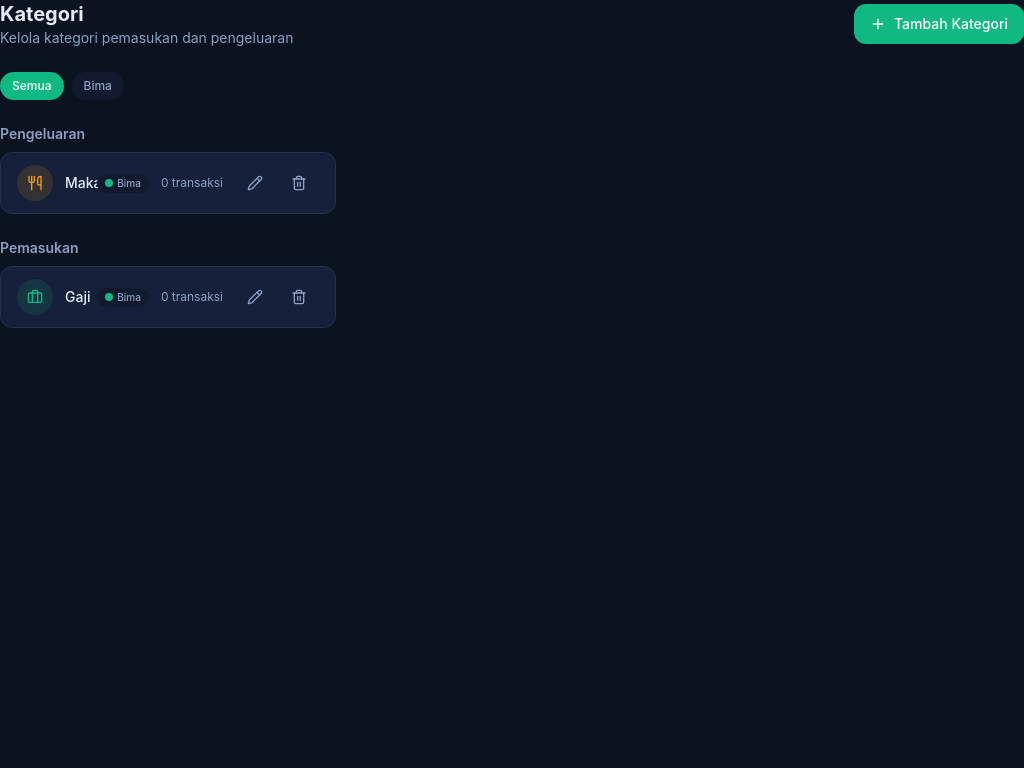
Test: CategoriesPage › opens the create form and creates a category
The image size is (1024, 768).
Expected: the text "Makanan" is shown, [65,173,85,193]
Click the button "Tambah Kategori". click: x=939, y=24
box: [854,4,1023,44]
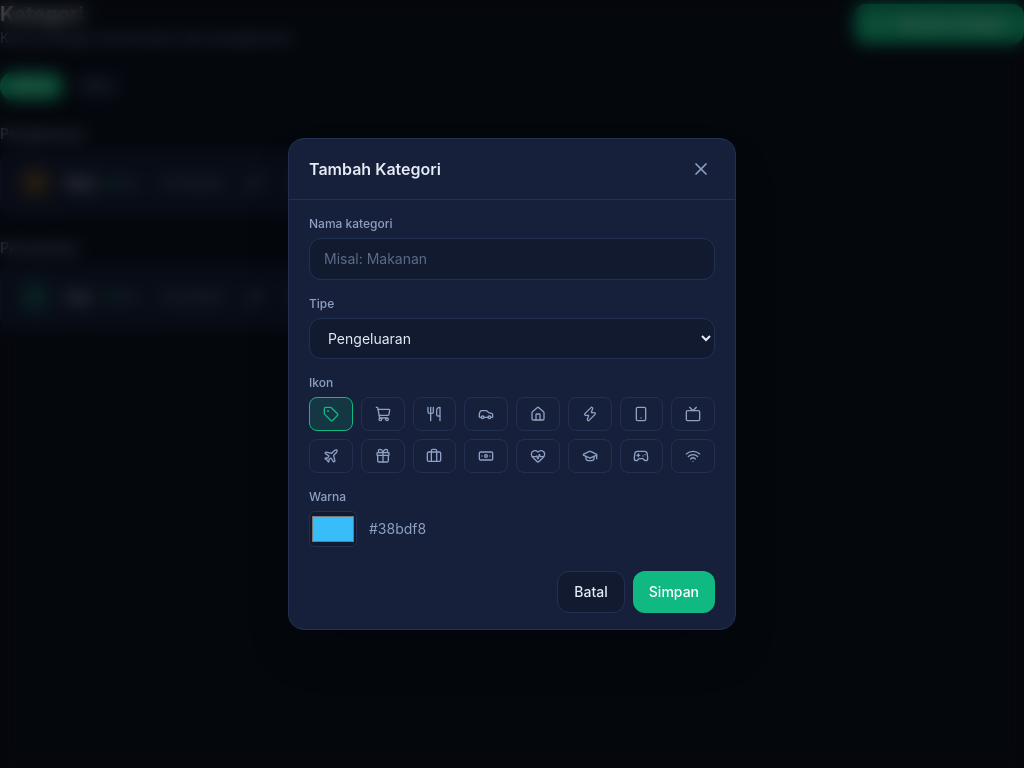
Expected: the heading "Tambah Kategori" is shown, [309,157,441,181]
Type "Transport" into the field labelled "Nama kategori". click: x=512, y=259
box: [309,238,715,280]
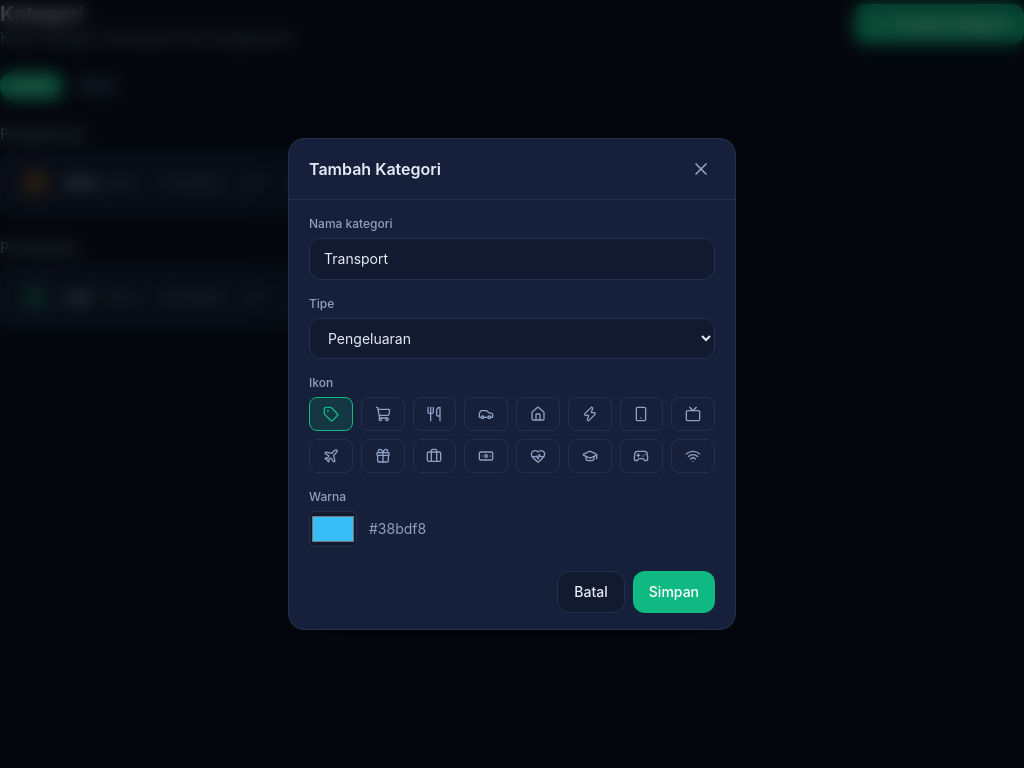
Submit the form, box [309,216,715,613]
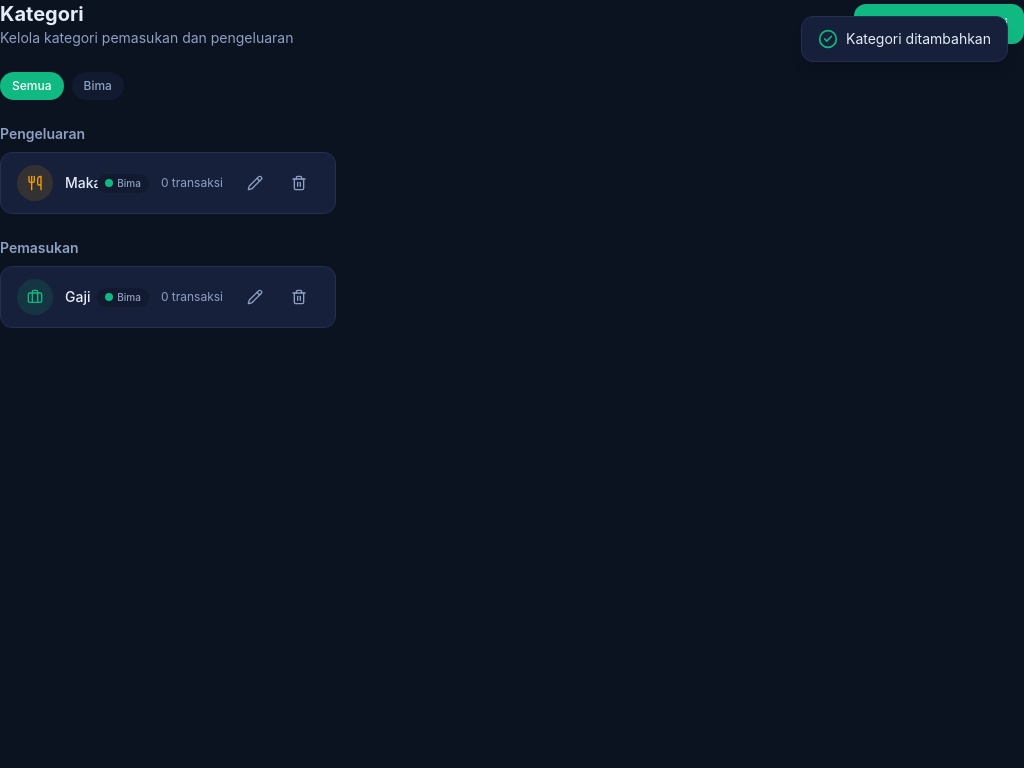
Expected: the text "Kategori ditambahkan" is shown, [846,29,991,49]
